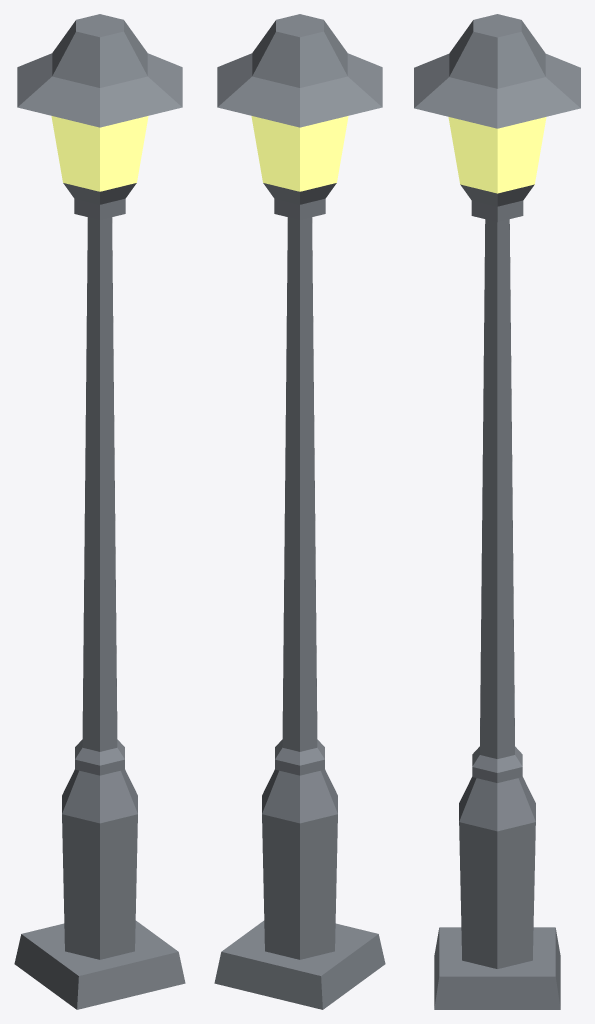
The model's file is lightpost.glb.
3 renders of one model, left to right at view 1: azimuth 30°, elevation 25°; view 2: azimuth 150°, elevation 25°; view 3: azimuth 270°, elevation 25°, orthographic.
Parts seen in each view (by area): view 1: Mesh_lightpost, Mesh lightpost_1; view 2: Mesh_lightpost, Mesh lightpost_1; view 3: Mesh_lightpost, Mesh lightpost_1.
Boxes of the visible parts, box(x1,y1,x2,y2) form: Mesh_lightpost: box(14, 14, 185, 1009); Mesh lightpost_1: box(51, 116, 148, 191); Mesh_lightpost: box(214, 14, 385, 1009); Mesh lightpost_1: box(251, 116, 348, 191); Mesh_lightpost: box(414, 14, 580, 1009); Mesh lightpost_1: box(448, 117, 546, 193).
Bounding box in the file's own units: 0.2336 × 1.28 × 0.2023.
